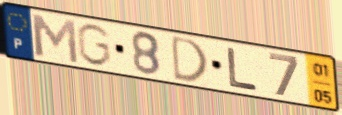7: (266, 50, 303, 99)
8: (130, 30, 162, 78)
D: (169, 33, 209, 84)
G: (74, 22, 113, 69)
L: (225, 45, 261, 92)
M: (28, 11, 81, 66)
